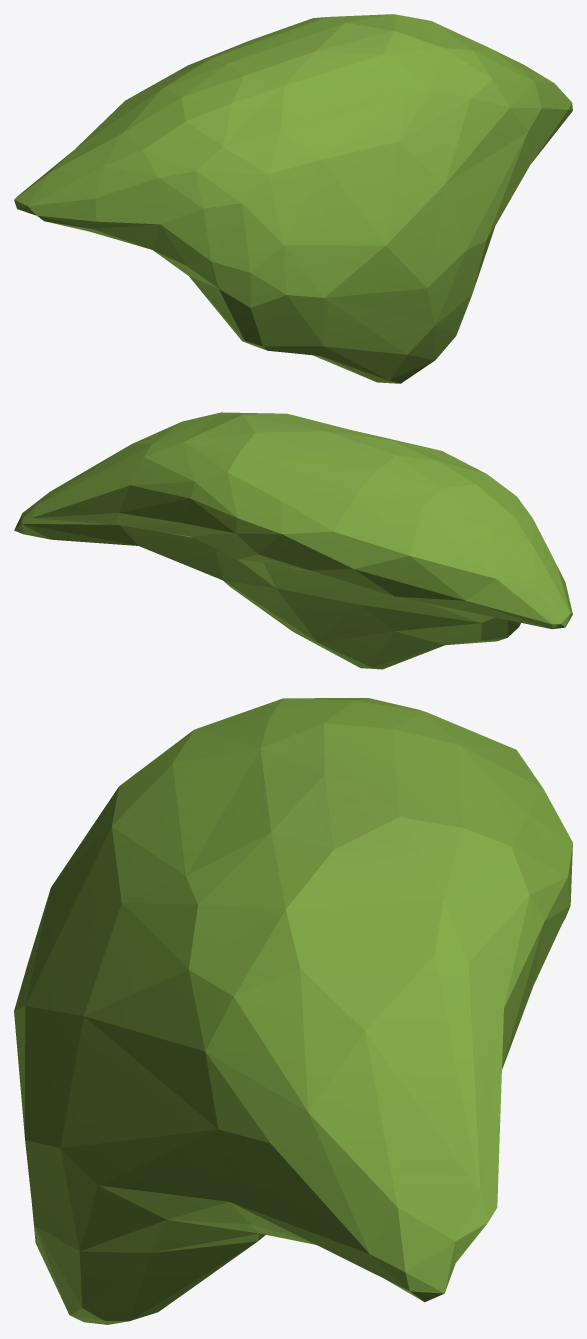
Rendered from Cavern_BushTopper-03.fbx.
The picture shows the model from 3 angles, top to bottom: view 1: azimuth 30°, elevation 25°; view 2: azimuth 150°, elevation 25°; view 3: azimuth 270°, elevation 25°; orthographic projection. The views are drawn at different scales.
Parts seen in each view (by area): view 1: Cavern_BushTopper-03; view 2: Cavern_BushTopper-03; view 3: Cavern_BushTopper-03.
Boxes of the visible parts, left/top/right/bottom form: Cavern_BushTopper-03: left=14, top=14, right=572, bottom=383; Cavern_BushTopper-03: left=14, top=412, right=572, bottom=669; Cavern_BushTopper-03: left=14, top=698, right=572, bottom=1324.
Size of the model in its own units: 511 by 256 by 244.
1 material, 1 textured.
